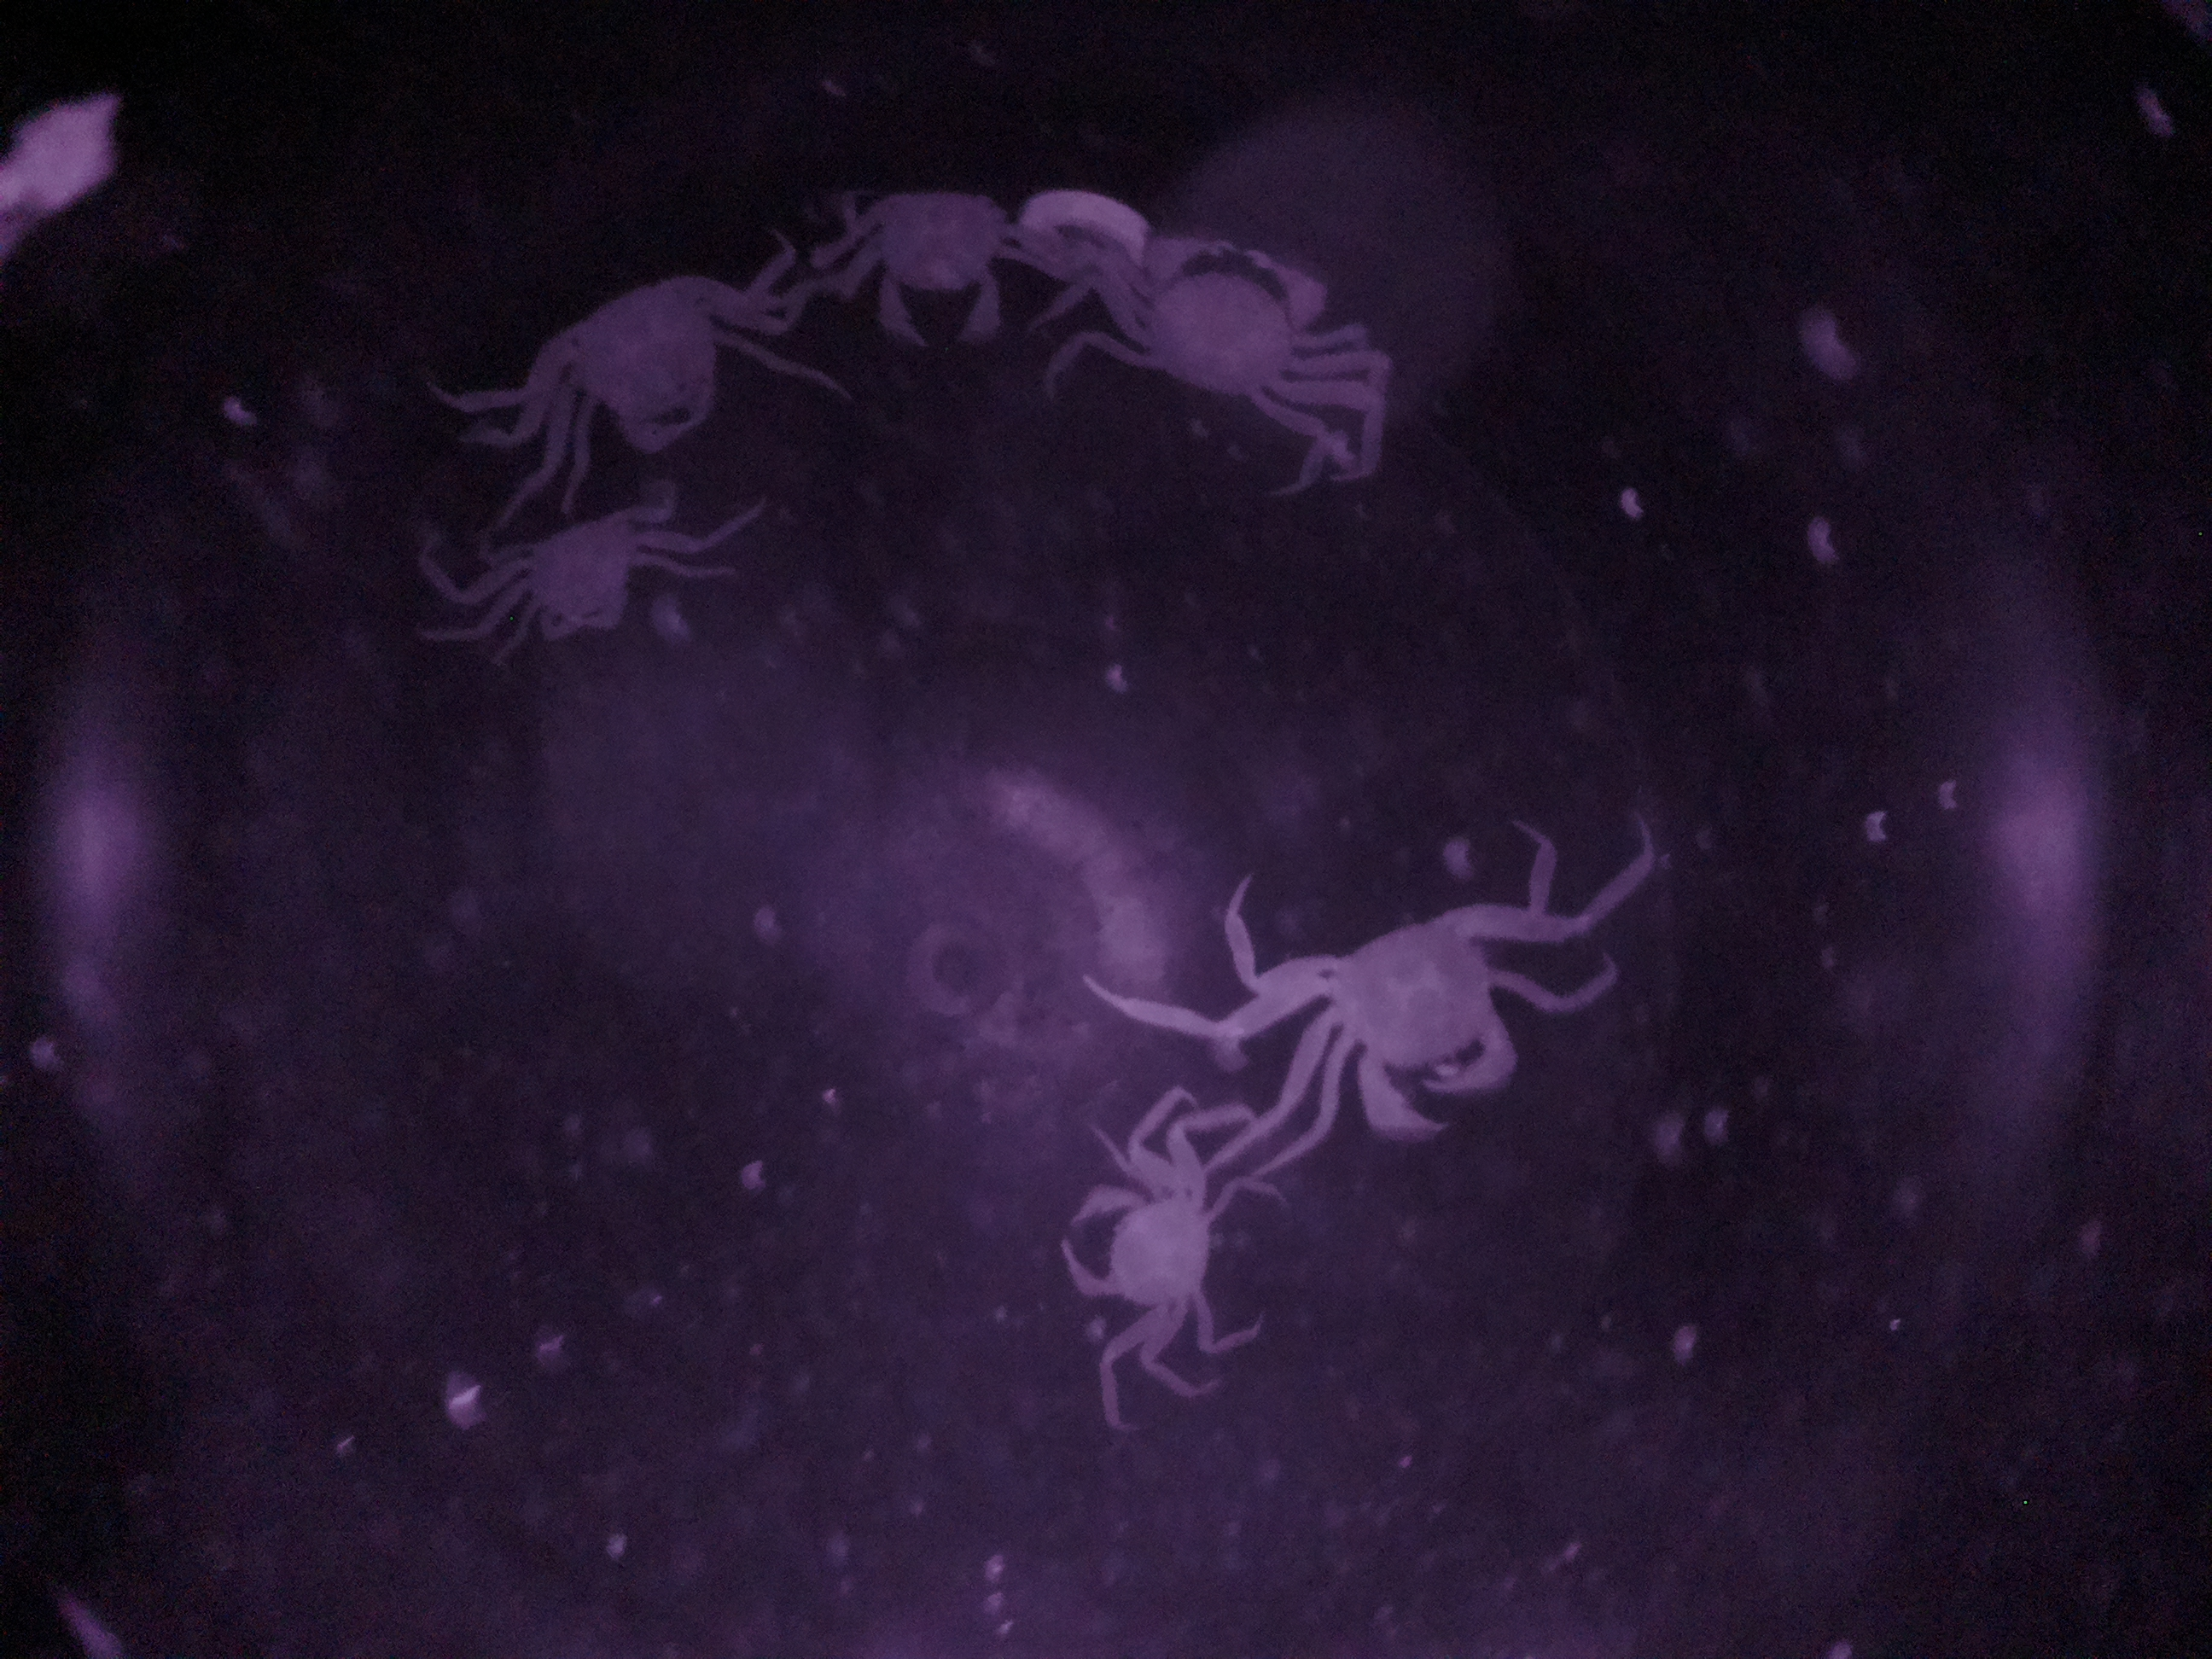Crab: (1261, 885, 1559, 1150), (1082, 227, 1355, 439), (1036, 1101, 1249, 1364), (418, 476, 693, 648)
